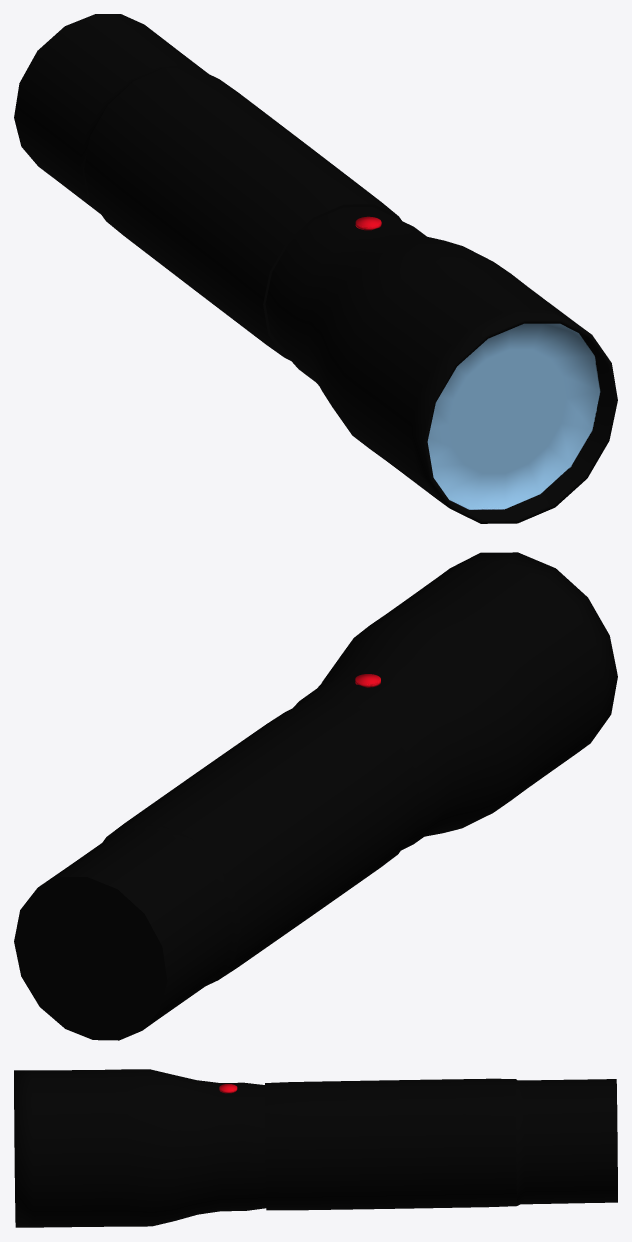
File: Фонарик_запёкшийся_the_end.fbx
The picture shows the model from 3 angles, top to bottom: view 1: azimuth 30°, elevation 25°; view 2: azimuth 150°, elevation 25°; view 3: azimuth 270°, elevation 25°; orthographic projection. The views are drawn at different scales.
Parts seen in each view (by area): view 1: Retopo_Фонарик_high.003; view 2: Retopo_Фонарик_high.003; view 3: Retopo_Фонарик_high.003.
Boxes of the visible parts, bbox=[...] form: Retopo_Фонарик_high.003: bbox=[14, 14, 617, 523]; Retopo_Фонарик_high.003: bbox=[14, 552, 617, 1040]; Retopo_Фонарик_high.003: bbox=[14, 1069, 617, 1227].
Bounding box in the file's own units: 246 × 248 × 942.
1 material, 1 textured.
